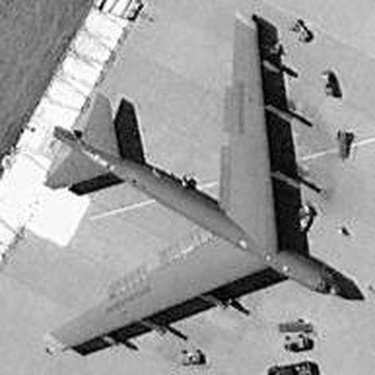airplane: (25, 4, 359, 359)
